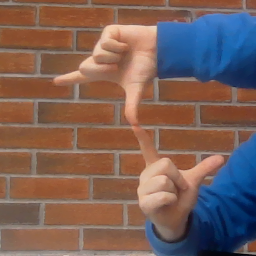Z: (51, 21, 228, 230)
